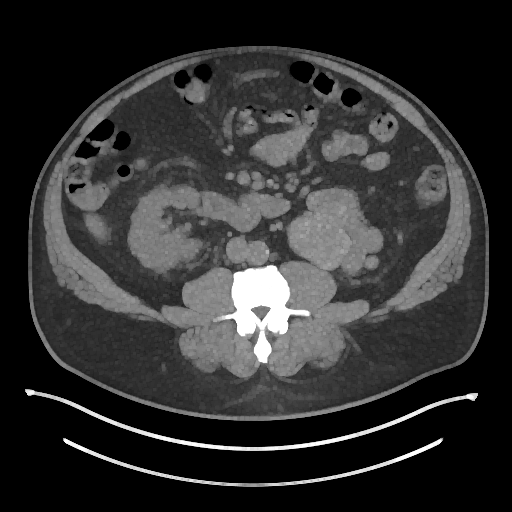Lesion: (285, 211, 353, 269)
